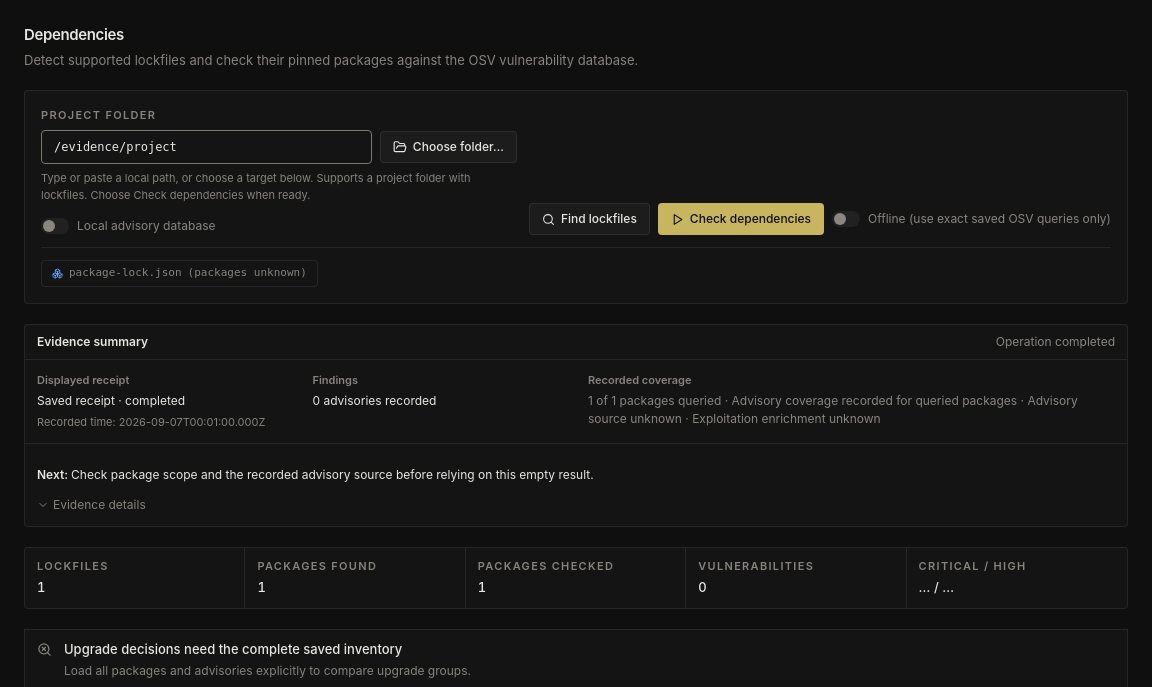
it: a dependency retry clears a previous failed operation
Click the button "Check dependencies" at (741, 219), box [658,203,824,235]
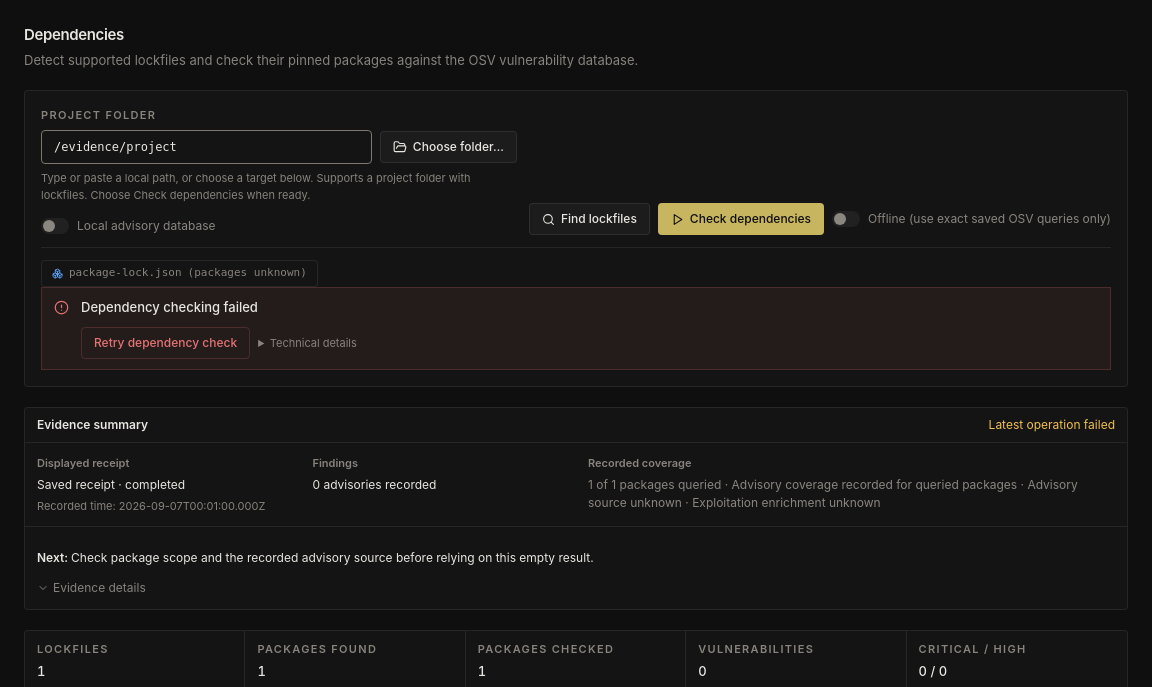
Expected: the element named "Dependency evidence summary" shows "Latest operation failed", [989,417,1115,432]
Click the button "Check dependencies" at (741, 219), box [658,203,824,235]
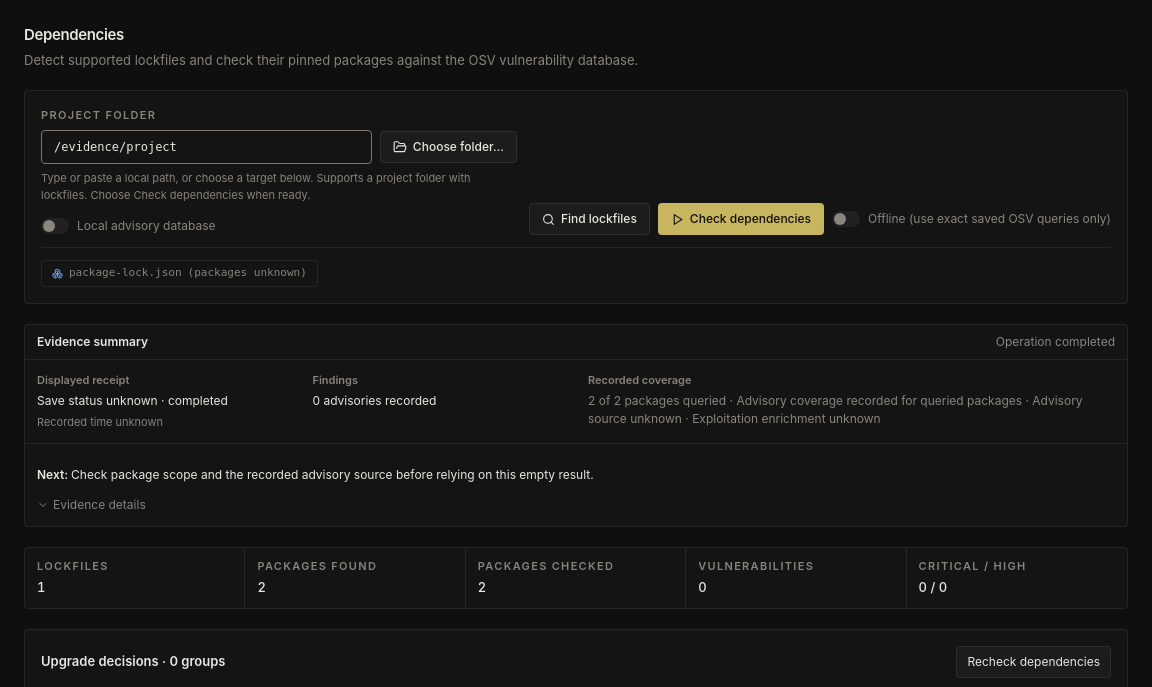
Expected: the element named "Dependency evidence summary" shows "2 of 2 packages queried", [588,393,1083,426]
Expected: the message reads "Operation completed", [996,334,1115,349]
Expected: the element named "Dependency evidence summary" no longer shows "Latest operation failed", [24,324,1128,527]
